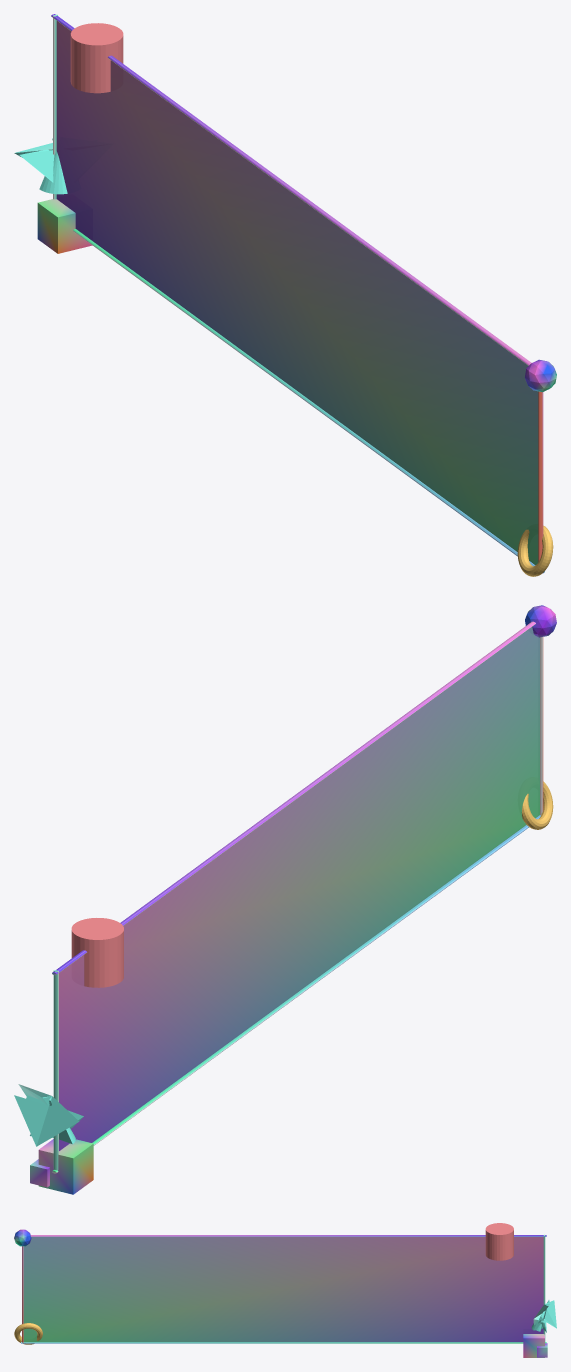
The model's file is dialoguesegundaestampa.glb.
3 renders of one model, top to bottom at view 1: azimuth 30°, elevation 25°; view 2: azimuth 150°, elevation 25°; view 3: azimuth 270°, elevation 25°, orthographic. The views are drawn at different scales.
Parts seen in each view (by area): view 1: Plane, Cylinder.004, Cylinder.002, Cylinder.003, Cube, Cone, Torus, Cylinder, Icosphere; view 2: Plane, Cylinder.004, Cylinder.002, Cone, Cylinder.003, Cube, Cylinder.001, Torus, Icosphere, Cylinder; view 3: Plane, Cylinder.004, Cylinder.003, Cylinder.002, Cone, Cube, Torus, Icosphere, Cylinder.001.
Part boxes in pixels (<box>): Plane: <box>56,21,538,565</box>; Cylinder.004: <box>70,23,123,93</box>; Cylinder.002: <box>51,14,531,365</box>; Cylinder.003: <box>73,229,544,573</box>; Cube: <box>37,199,92,253</box>; Cone: <box>14,138,67,194</box>; Torus: <box>517,525,553,576</box>; Cylinder: <box>538,391,543,561</box>; Icosphere: <box>525,359,556,392</box>; Plane: <box>59,627,539,1150</box>; Cylinder.004: <box>71,918,123,987</box>; Cylinder.002: <box>52,621,535,975</box>; Cone: <box>14,1084,83,1146</box>; Cylinder.003: <box>52,815,540,1173</box>; Cube: <box>38,1139,93,1194</box>; Cylinder.001: <box>53,970,58,1170</box>; Torus: <box>521,781,553,829</box>; Icosphere: <box>525,605,556,637</box>; Cylinder: <box>540,637,543,815</box>; Plane: <box>23,1237,543,1342</box>; Cylinder.004: <box>485,1223,513,1260</box>; Cylinder.003: <box>21,1342,546,1343</box>; Cylinder.002: <box>30,1235,546,1236</box>; Cone: <box>531,1300,556,1332</box>; Cube: <box>523,1334,544,1357</box>; Torus: <box>14,1323,42,1344</box>; Icosphere: <box>14,1229,31,1246</box>; Cylinder.001: <box>543,1234,545,1342</box>.
Bounding box in the file's own units: 1.32 × 3.61 × 14.27.
